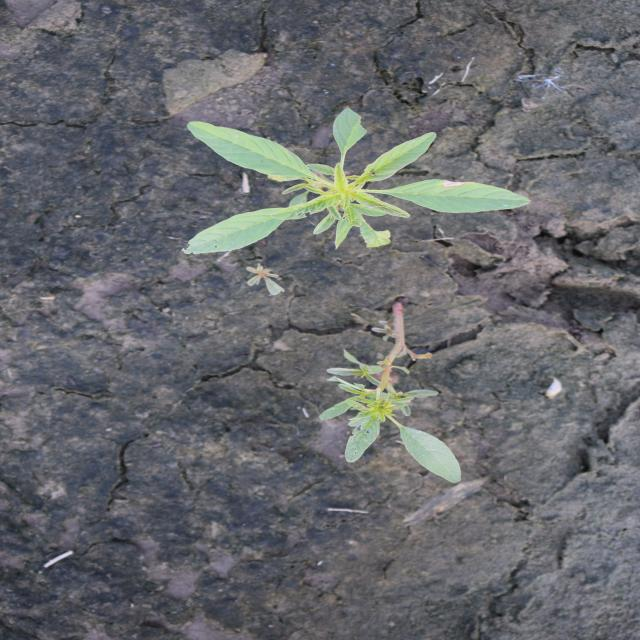Waterhemp: (176, 107, 535, 255), (315, 298, 466, 485)
